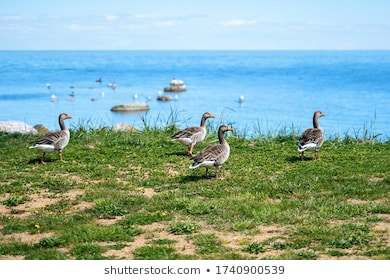duck: (23, 109, 91, 172), (196, 123, 245, 190), (286, 108, 335, 167), (161, 105, 214, 154)
